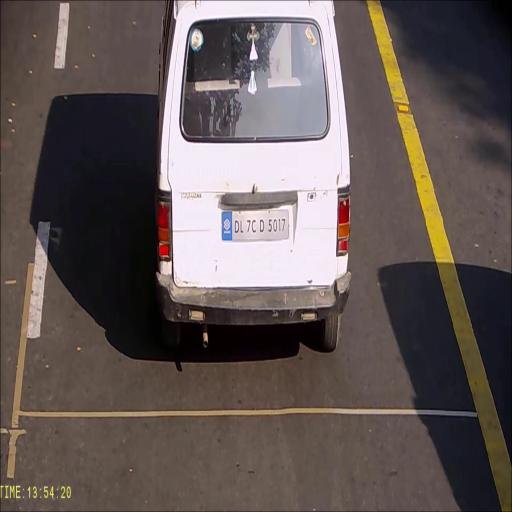License plate: (221, 209, 290, 242)
Vehicle: (156, 0, 352, 355)
